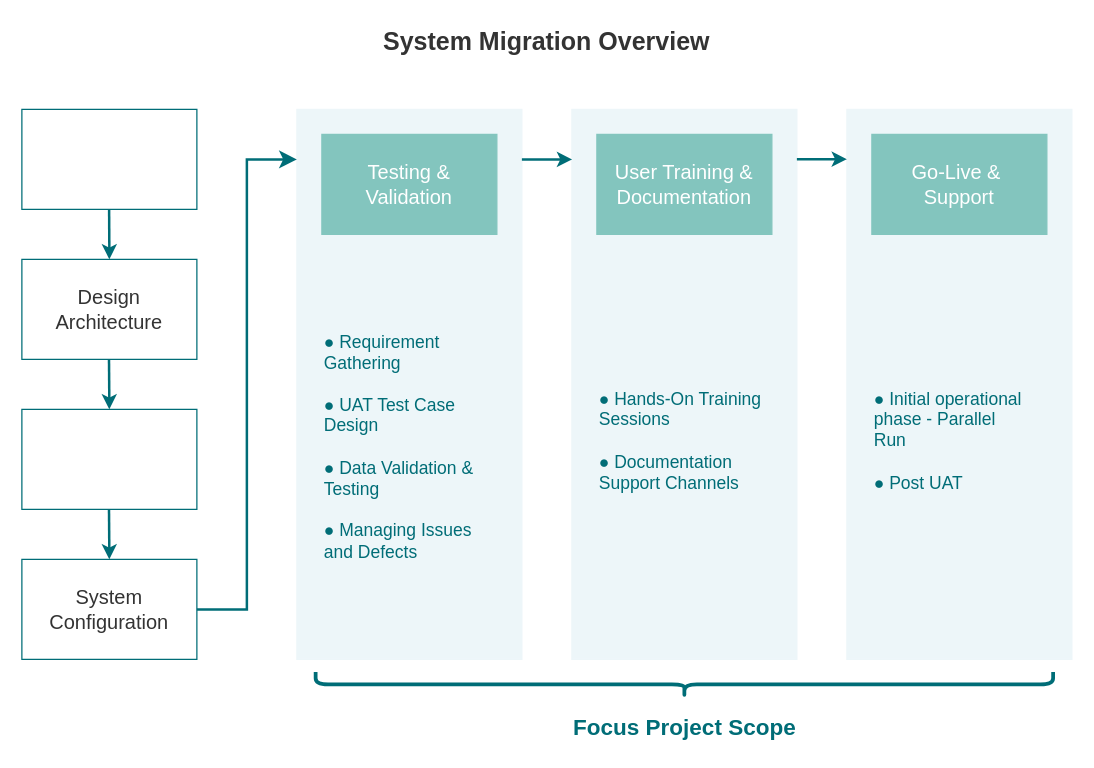
Some shapes in this 1094 by 768 pixel diagram are drawn without their labels. Each missing label, with the centre of its shape:
"Assessment & Planning" belongs at point 109,158.
"Data Migration" belongs at point 109,458.
